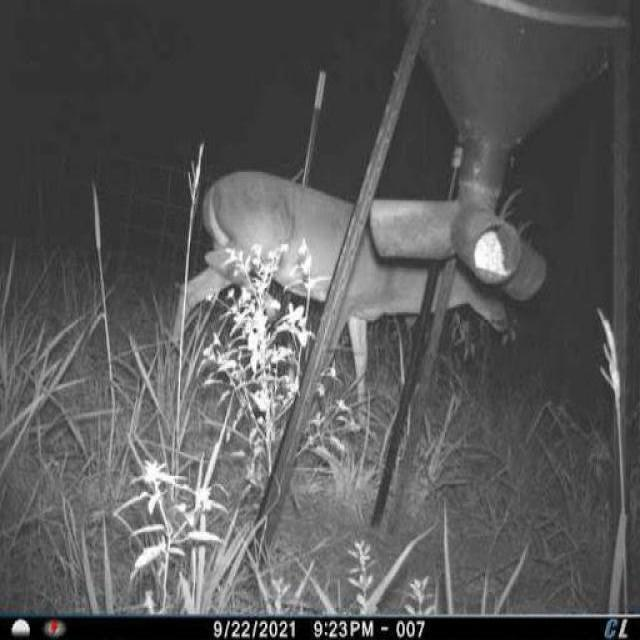deer: (173, 157, 532, 440)
